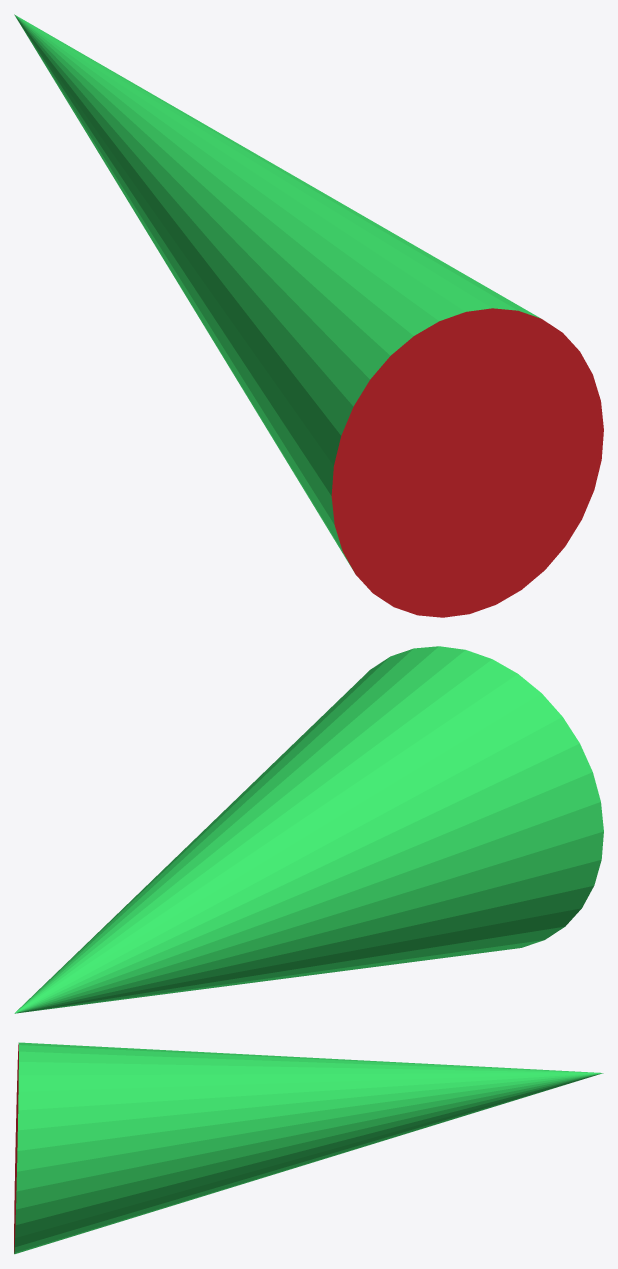
File: green_tail.obj
The picture shows the model from 3 angles, top to bottom: view 1: azimuth 30°, elevation 25°; view 2: azimuth 150°, elevation 25°; view 3: azimuth 270°, elevation 25°; orthographic projection. The views are drawn at different scales.
Visible parts, largest first — view 1: polySurface11 polySurface10 group1_pCube2; view 2: polySurface11 polySurface10 group1_pCube2; view 3: polySurface11 polySurface10 group1_pCube2.
Part boxes in pixels (x1,y1,x2,y2): polySurface11 polySurface10 group1_pCube2: (14,14,603,617); polySurface11 polySurface10 group1_pCube2: (14,646,603,1013); polySurface11 polySurface10 group1_pCube2: (14,1042,603,1254).
Size of the model in its own units: 0.5811 by 0.6105 by 1.68.
1 material, 1 textured.
